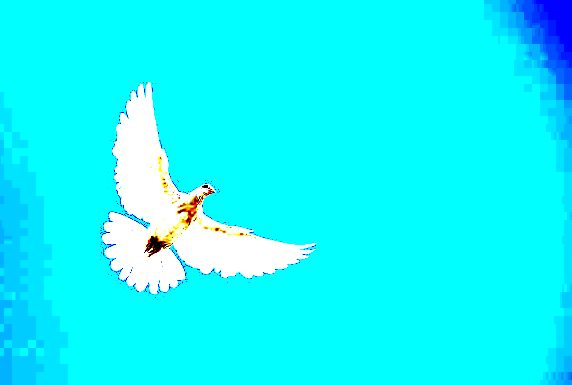Bird: (101, 80, 315, 297)
